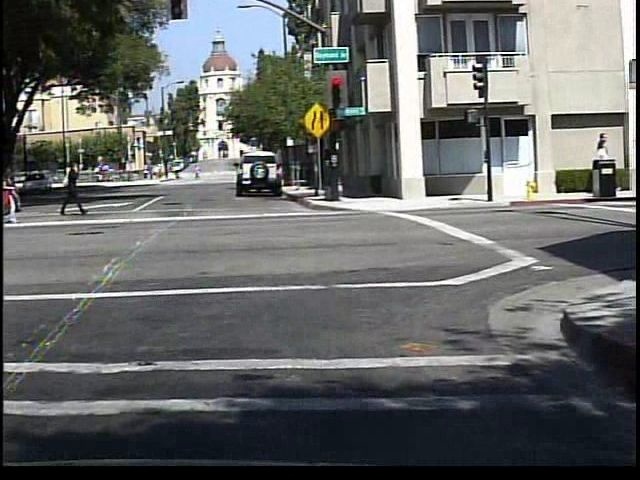person: (56, 154, 86, 218), (2, 167, 30, 230), (189, 161, 200, 181), (169, 166, 180, 182)
